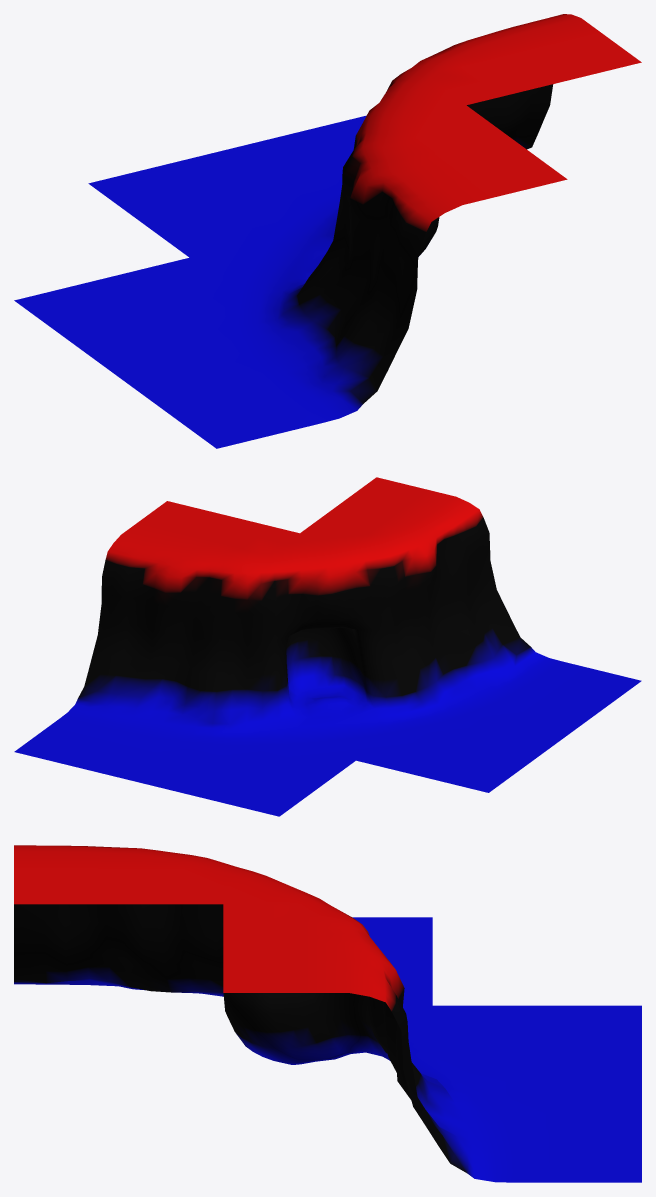
File: RiveCliff04B Foreground.fbx
The picture shows the model from 3 angles, top to bottom: view 1: azimuth 30°, elevation 25°; view 2: azimuth 150°, elevation 25°; view 3: azimuth 270°, elevation 25°; orthographic projection. The views are drawn at different scales.
Parts seen in each view (by area): view 1: RiveCliff04B Foreground; view 2: RiveCliff04B Foreground; view 3: RiveCliff04B Foreground.
Part boxes in pixels (bbox=[...]): RiveCliff04B Foreground: bbox=[14, 14, 641, 448]; RiveCliff04B Foreground: bbox=[14, 477, 641, 816]; RiveCliff04B Foreground: bbox=[14, 845, 641, 1182].
Size of the model in its own units: 3 by 1 by 3.
